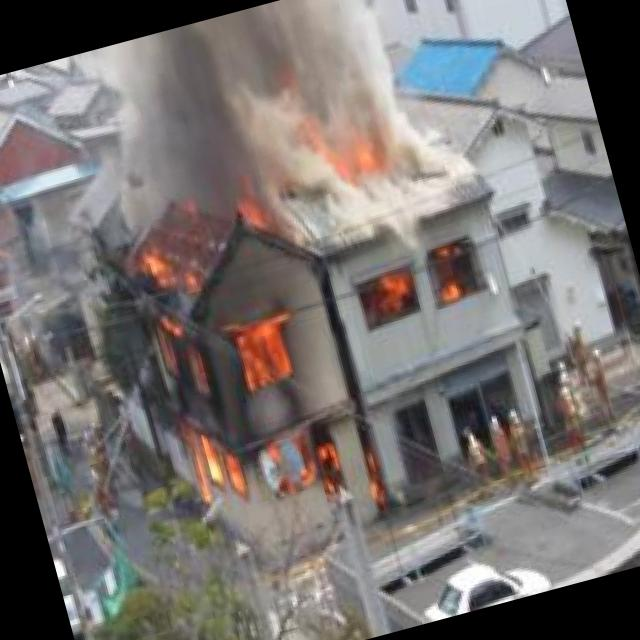Fire: (144, 257, 392, 548), (358, 260, 422, 328)
Smoke: (80, 0, 482, 300)
